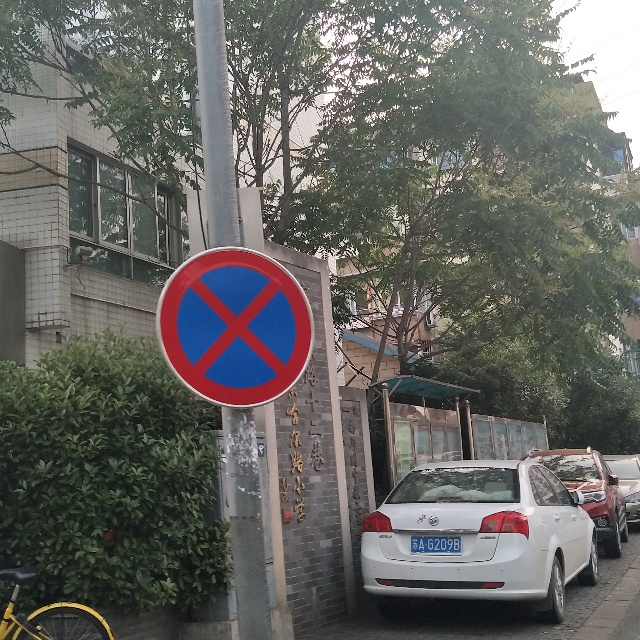stop: (155, 240, 320, 414)
